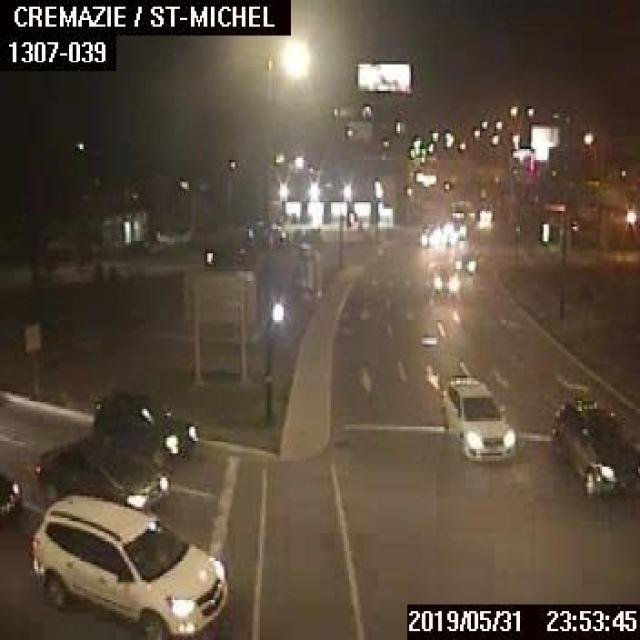vehicle: (29, 492, 226, 638), (32, 435, 168, 511), (547, 398, 638, 500), (90, 389, 196, 465), (438, 371, 516, 460), (0, 470, 20, 526), (428, 264, 458, 294), (452, 247, 478, 274), (447, 208, 466, 237), (419, 222, 434, 246)
